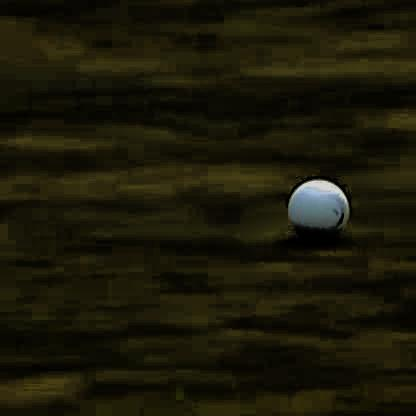golfball: (283, 171, 345, 236)
